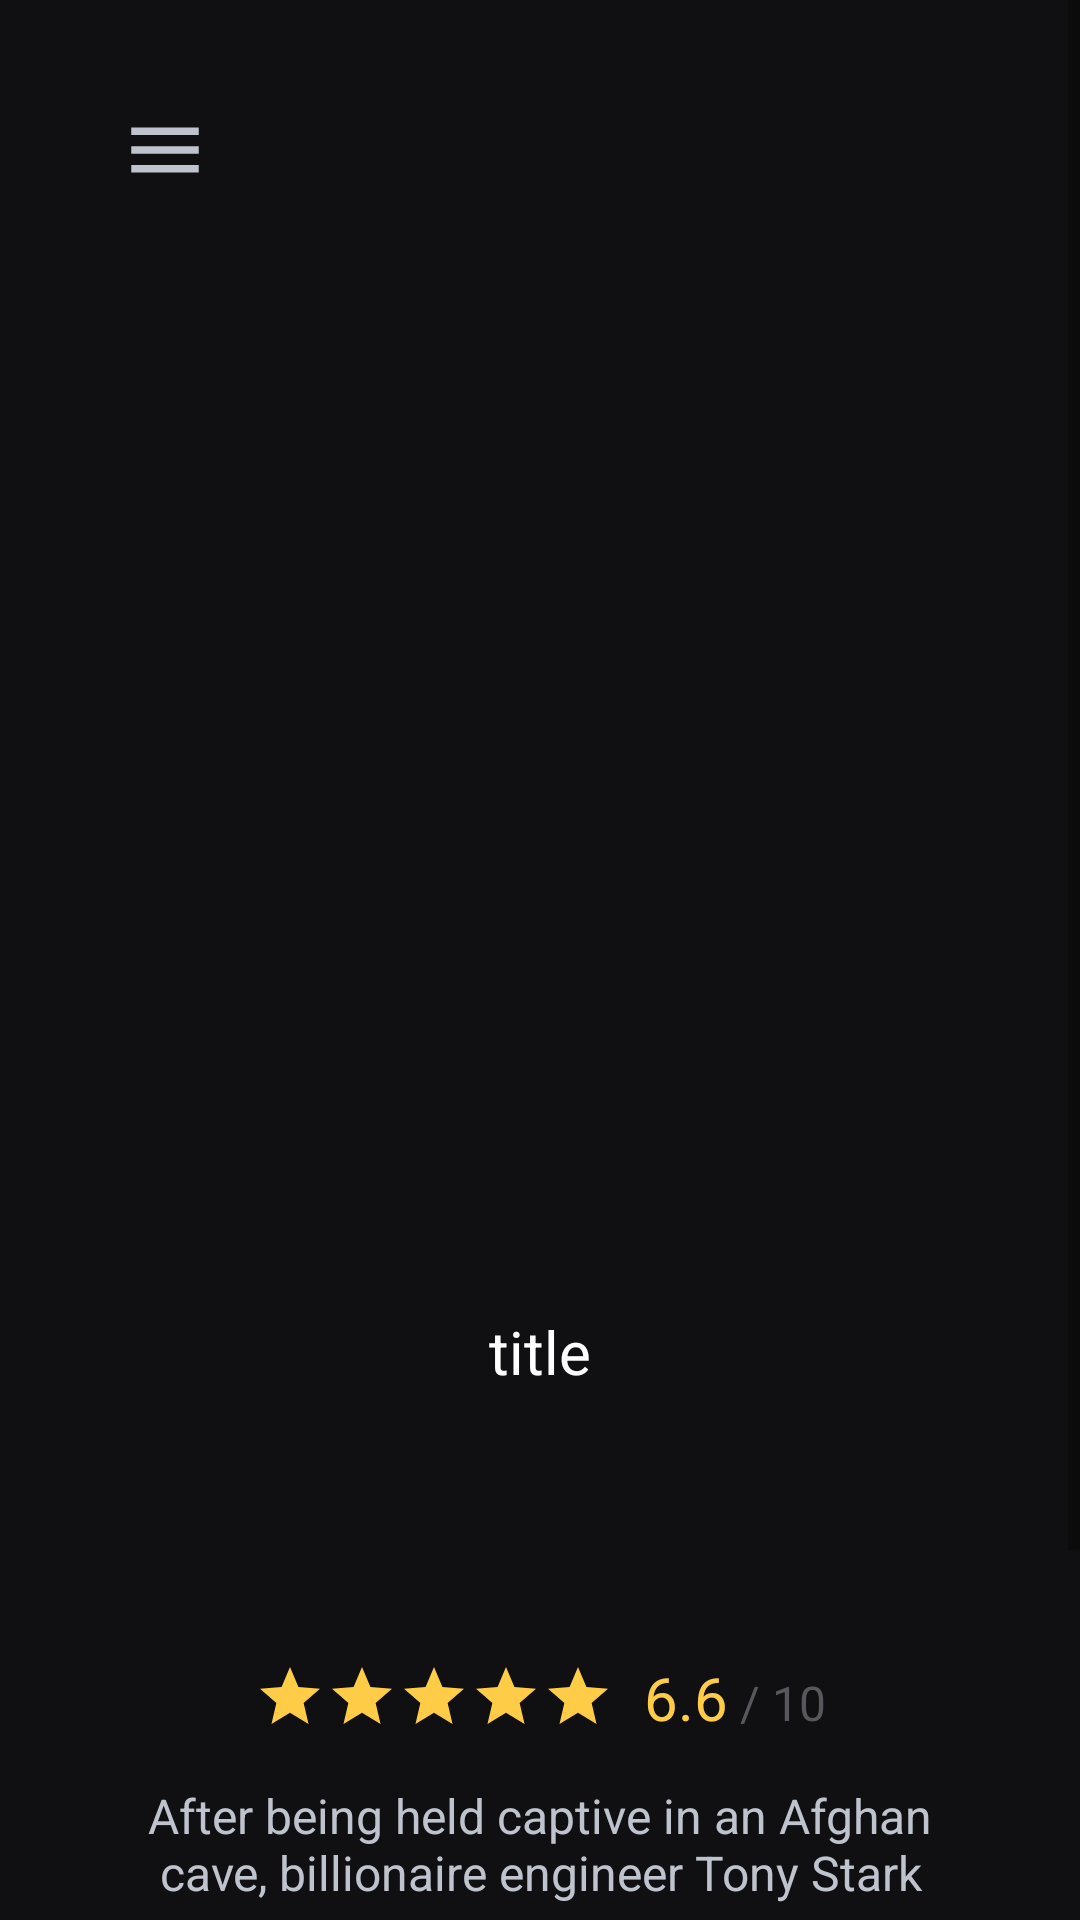

Point at icon controls on the screen. Image size 1080px×1920px, points as point (x, y).
menu: point (165, 150)
